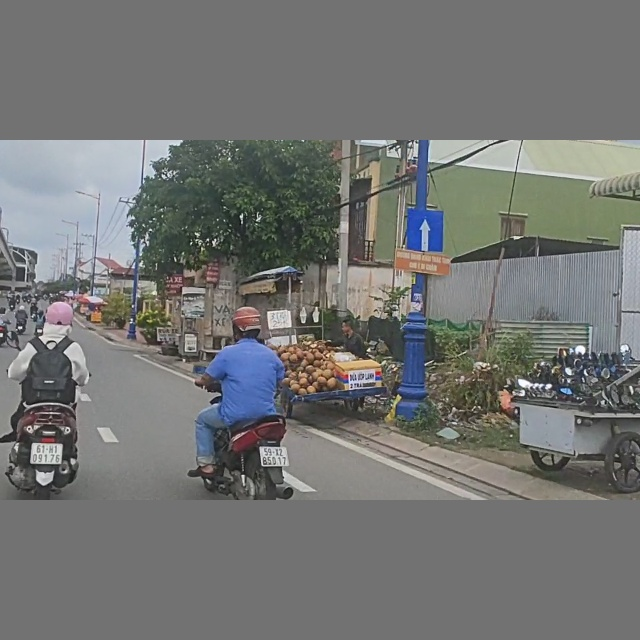I.407a: (407, 207, 443, 252)
